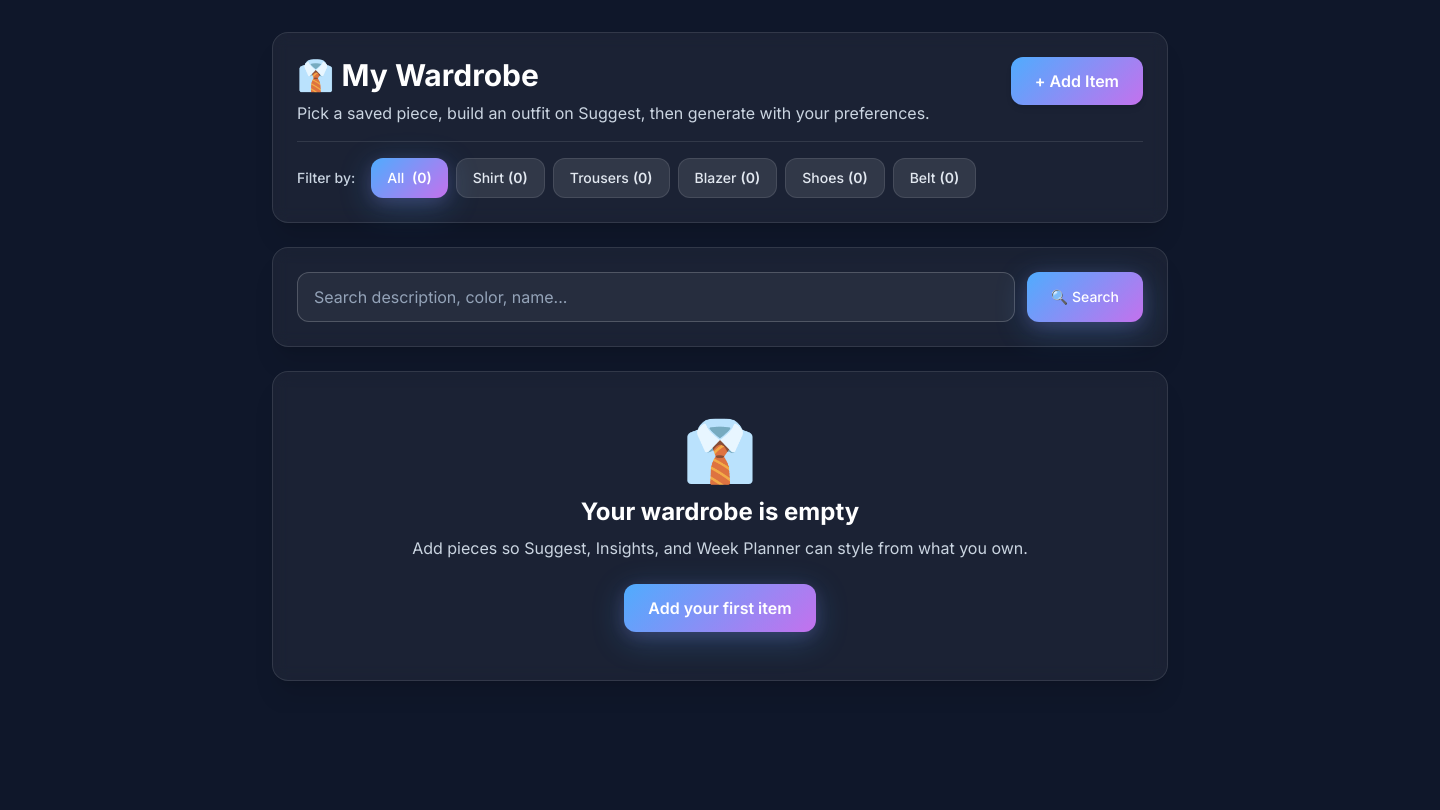
Test: Wardrobe page › Add modal displays image size limit and accept attribute
Click the button "Add your first item" at (720, 608), box [624, 584, 816, 632]
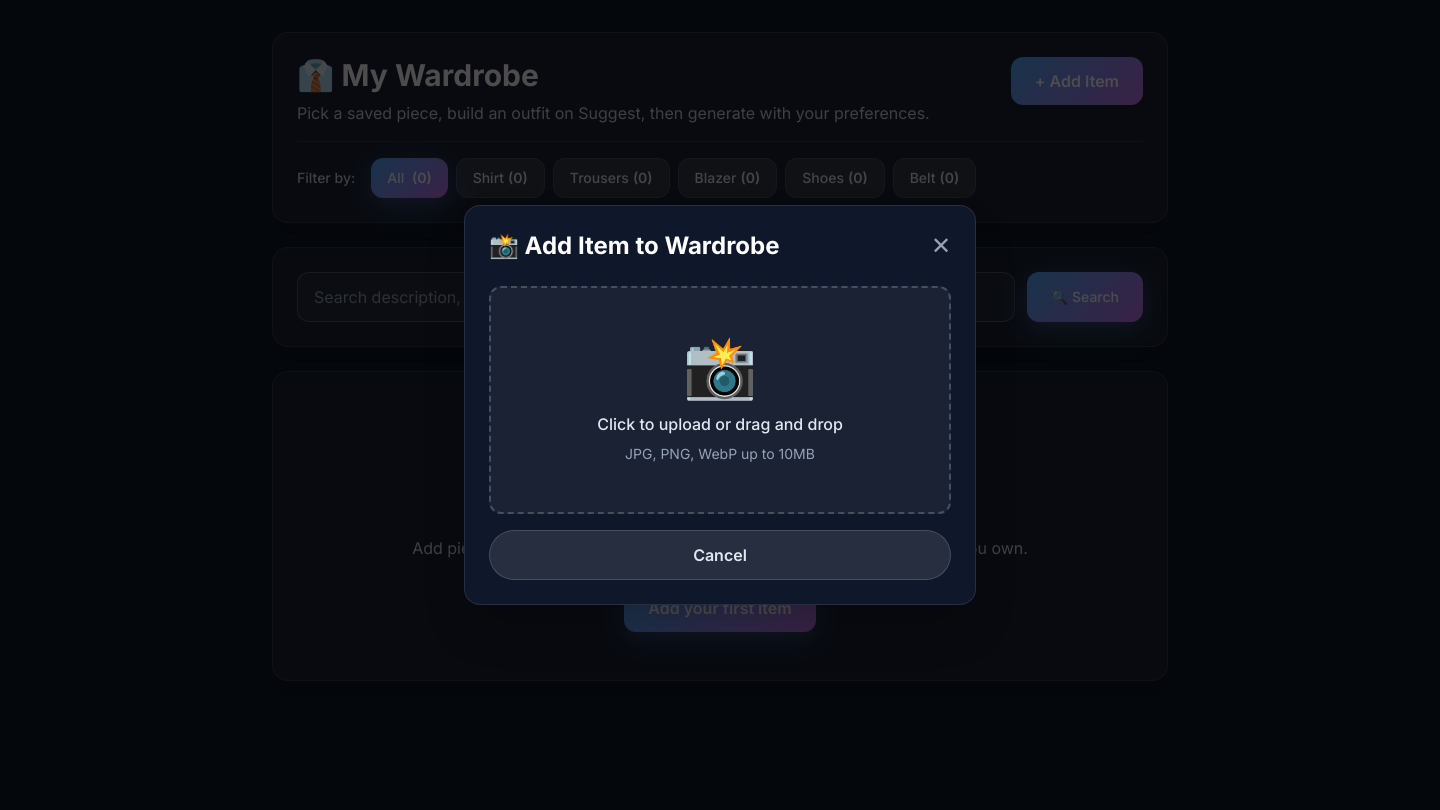
Result: the text "JPG, PNG, WebP up to 10MB" is shown at [625, 445, 815, 462]
Result: the element that starts with "Click to upload or drag and drop" is shown at [489, 286, 951, 580]
